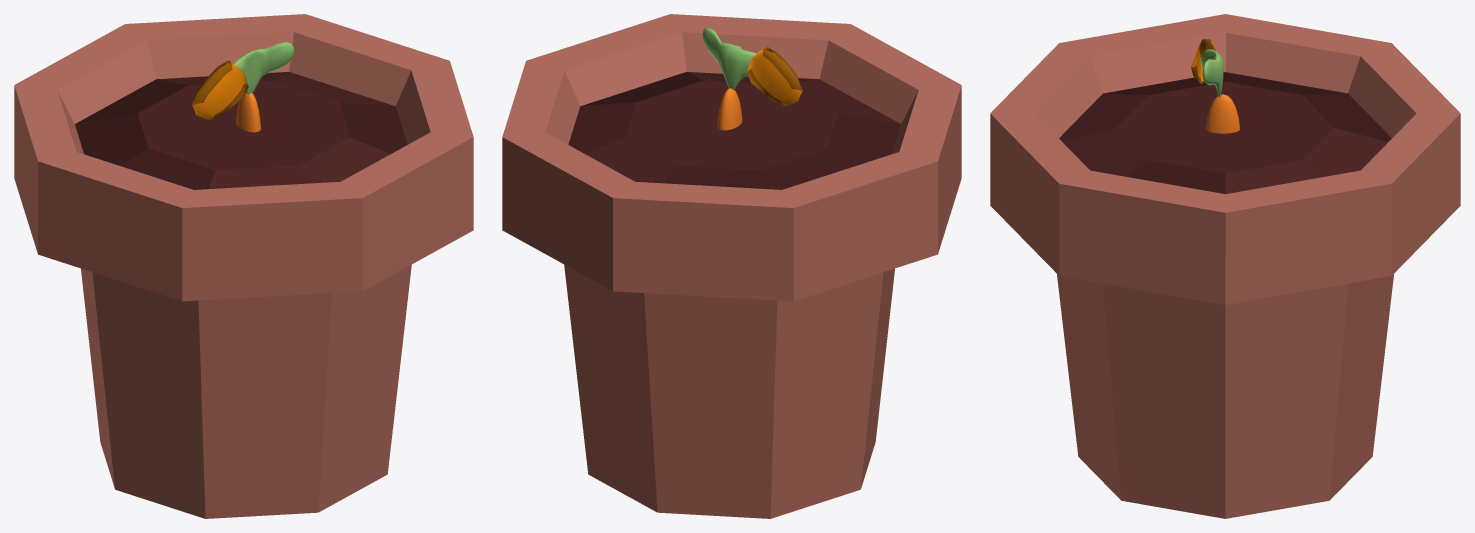
Rendered from wortel pot 2.fbx.
3 renders of one model, left to right at view 1: azimuth 30°, elevation 25°; view 2: azimuth 150°, elevation 25°; view 3: azimuth 270°, elevation 25°, orthographic.
Parts seen in each view (by area): view 1: pot 1.002, pertumbuhan benih, daun, wortel; view 2: pot 1.002, pertumbuhan benih, daun, wortel; view 3: pot 1.002, wortel, daun.
Part boxes in pixels (box(x1,y1,x2,y2)): pot 1.002: box(14, 14, 473, 518); pertumbuhan benih: box(192, 60, 248, 120); daun: box(234, 42, 294, 94); wortel: box(236, 92, 260, 132); pot 1.002: box(502, 14, 961, 518); pertumbuhan benih: box(746, 46, 802, 106); daun: box(702, 28, 756, 89); wortel: box(717, 88, 742, 130); pot 1.002: box(990, 14, 1460, 518); wortel: box(1206, 94, 1239, 133); daun: box(1200, 49, 1223, 97).
Bounding box in the file's own units: 49.53 × 47.75 × 49.53.
